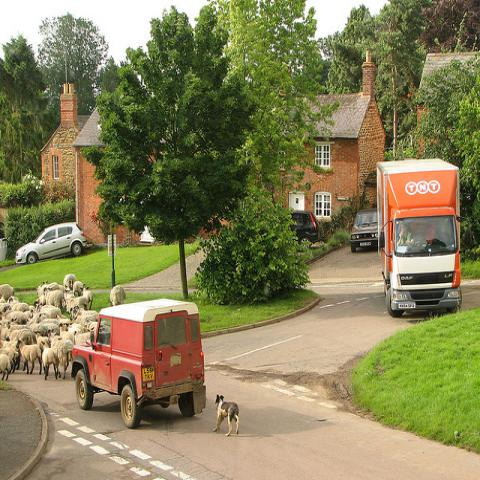car: (16, 220, 85, 266), (288, 210, 320, 252), (350, 209, 378, 252)
truck: (70, 298, 206, 427), (376, 157, 462, 316)
